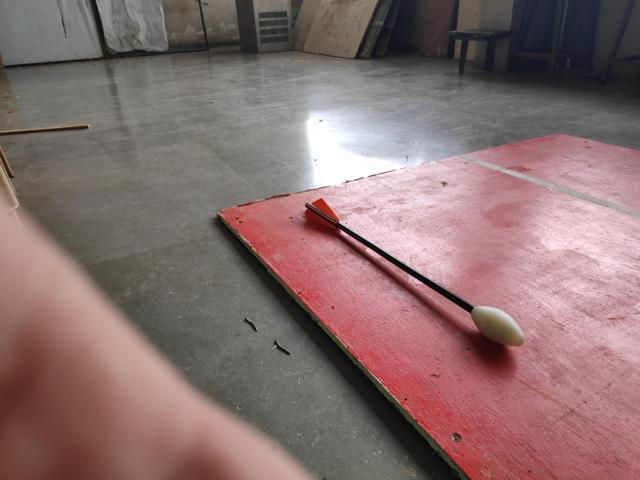Head: (466, 302, 526, 349)
Tail: (298, 197, 343, 229)
